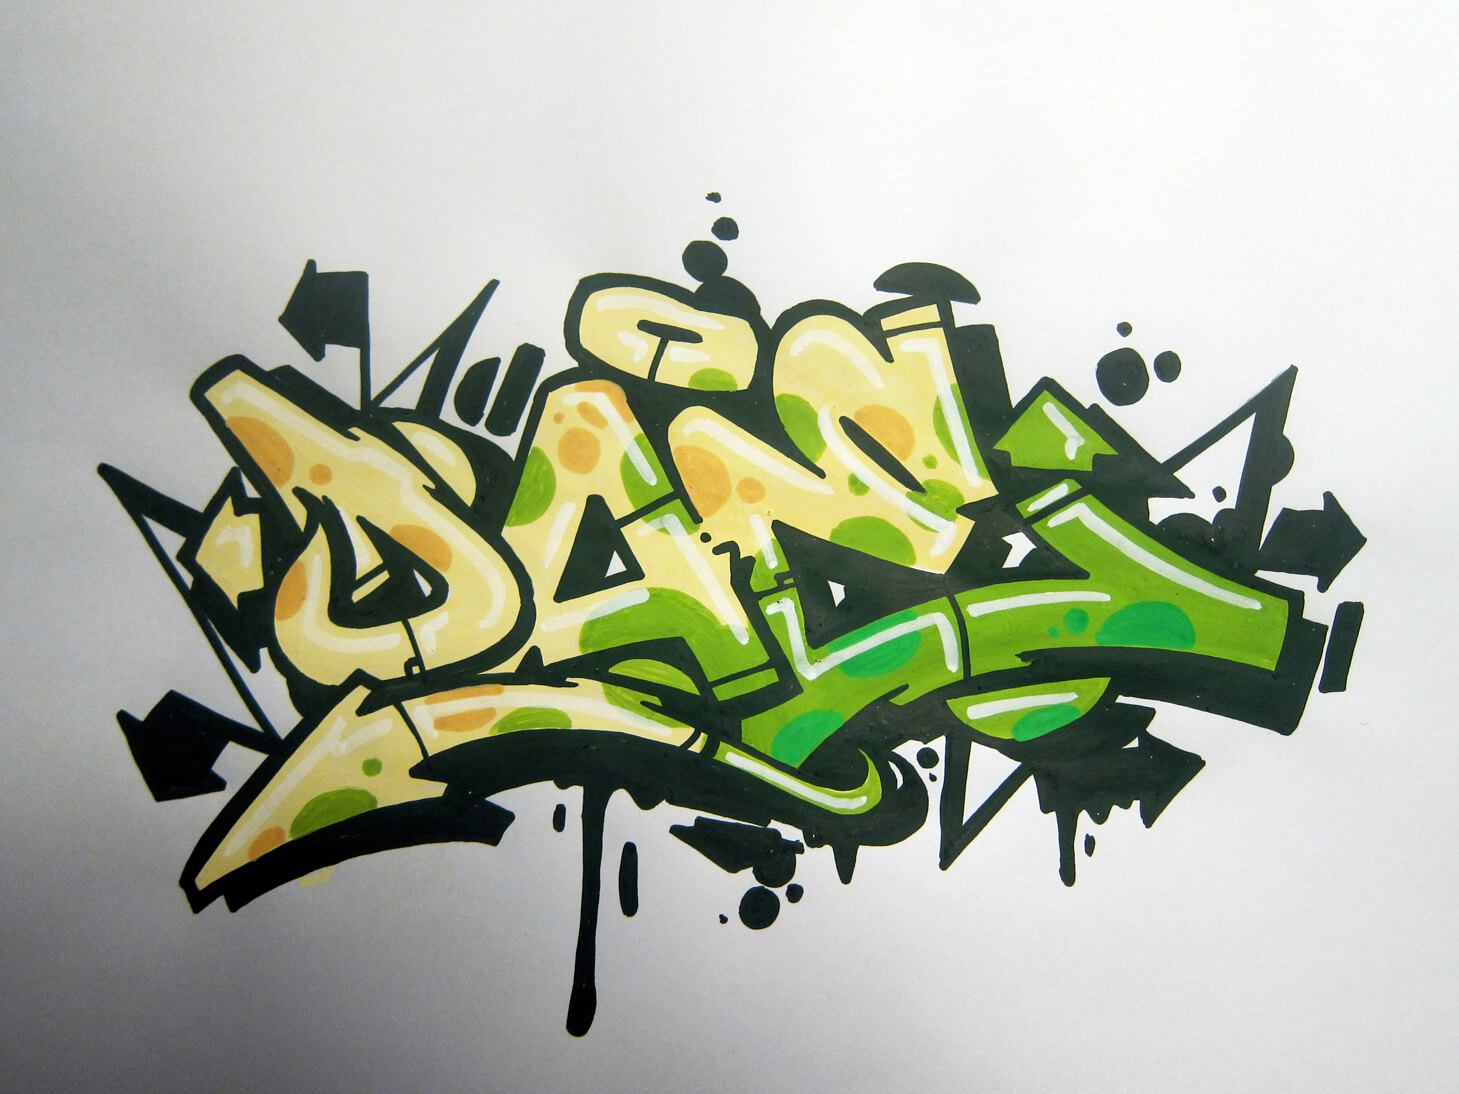graphite: (70, 174, 1392, 1049)
